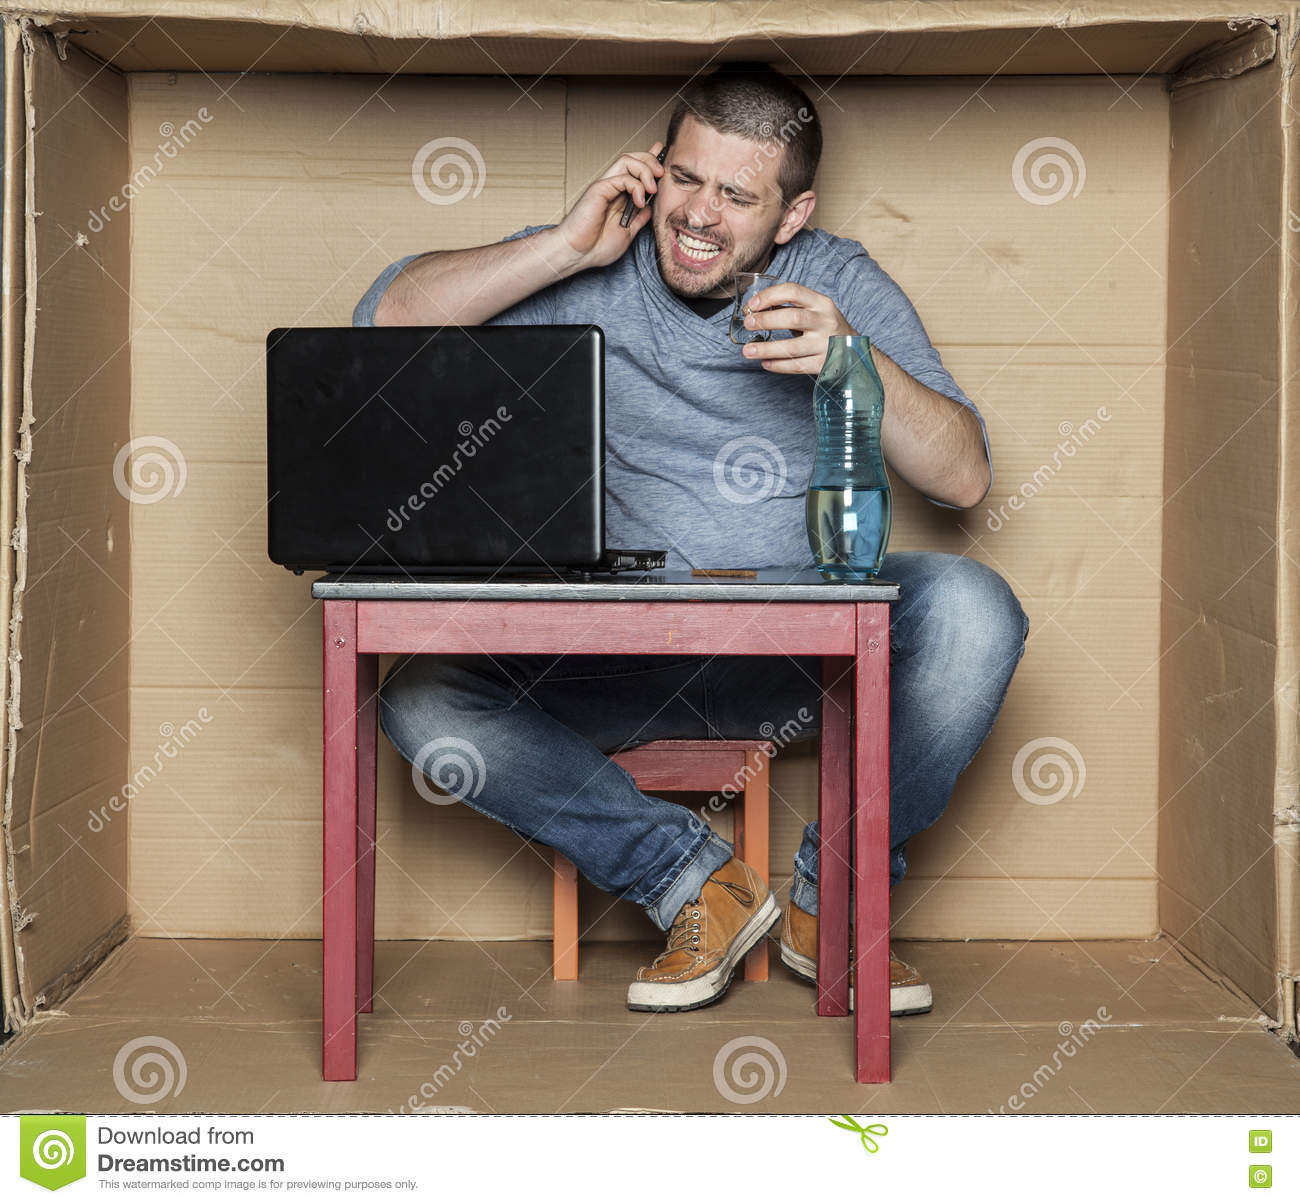phone: (622, 147, 665, 237)
talk: (561, 134, 768, 306)
